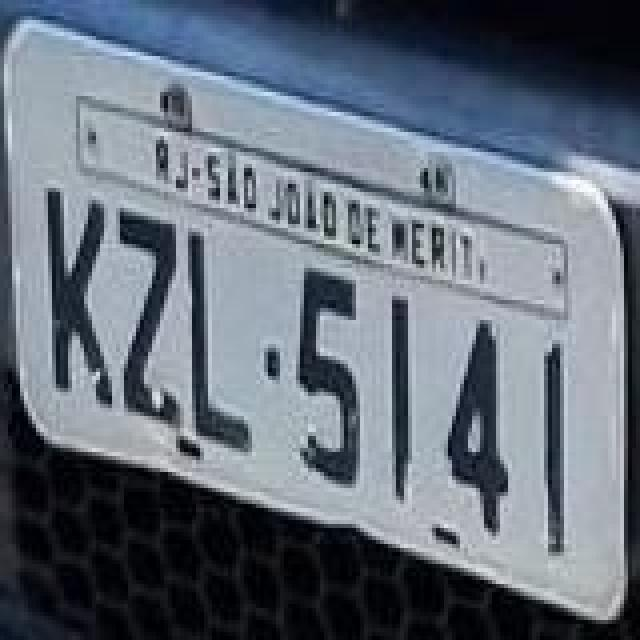1: (540, 338, 564, 558), (388, 292, 412, 508)
4: (444, 314, 508, 534)
5: (296, 264, 360, 488)
K: (44, 188, 116, 412)
L: (188, 230, 252, 458)
Z: (120, 208, 184, 432)
